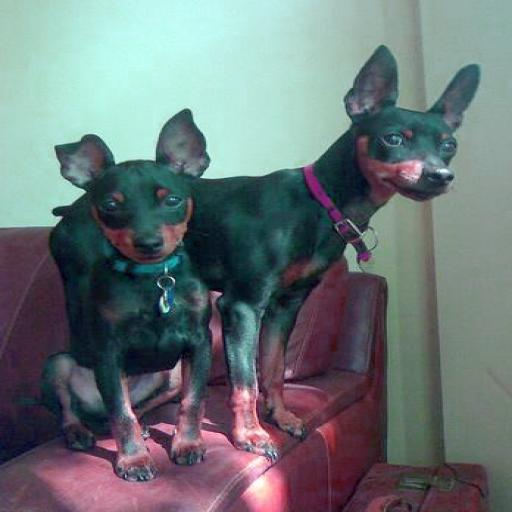dog_face: (342, 48, 488, 204), (52, 112, 198, 264)
